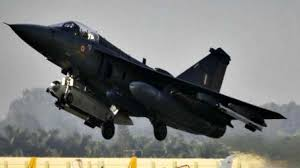maybay_muctieu: (8, 13, 286, 141)
